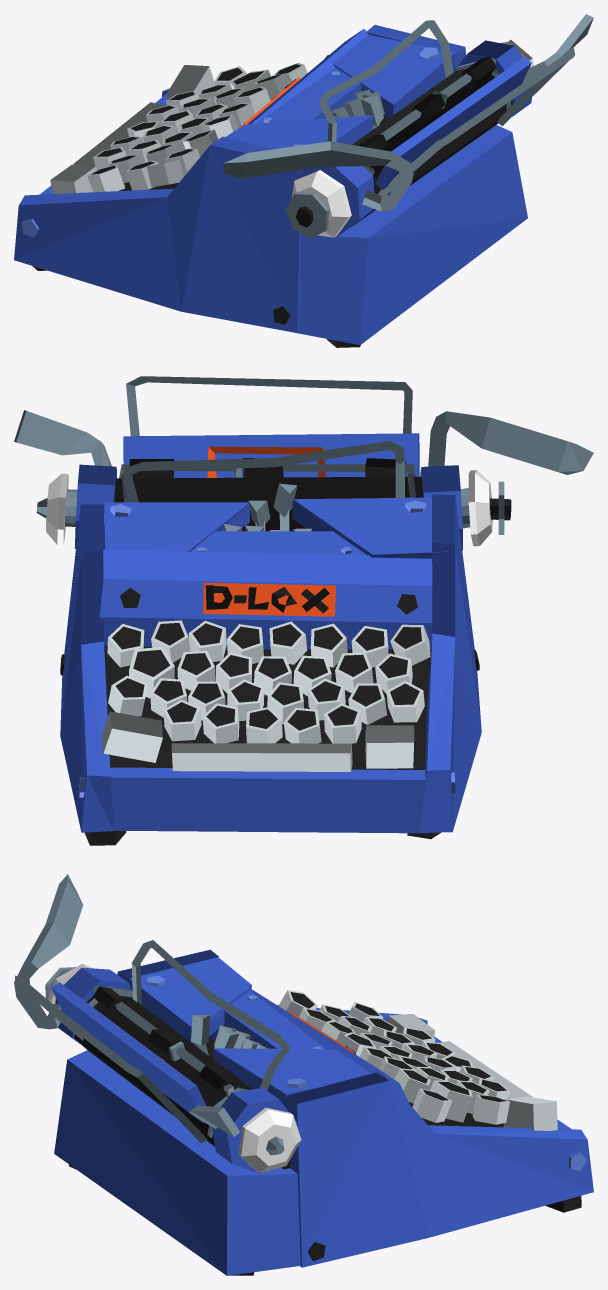
File: Typewriter by Naam - 2SmAWPS6_mH.glb
3 renders of one model, top to bottom at view 1: azimuth 30°, elevation 25°; view 2: azimuth 150°, elevation 25°; view 3: azimuth 270°, elevation 25°, orthographic. The views are drawn at different scales.
Visible parts, largest first — view 1: Node; view 2: Node; view 3: Node.
Boxes of the visible parts, x1,y1,x2,y2 form: Node: (14,14,593,347); Node: (14,376,593,845); Node: (14,874,593,1275).
Size of the model in its own units: 0.563 by 0.2545 by 0.567.
